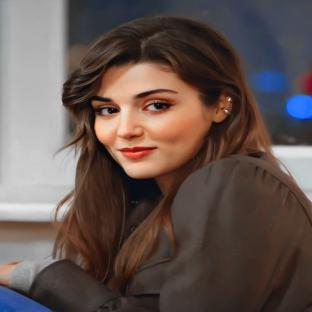Human: (0, 17, 312, 312)
